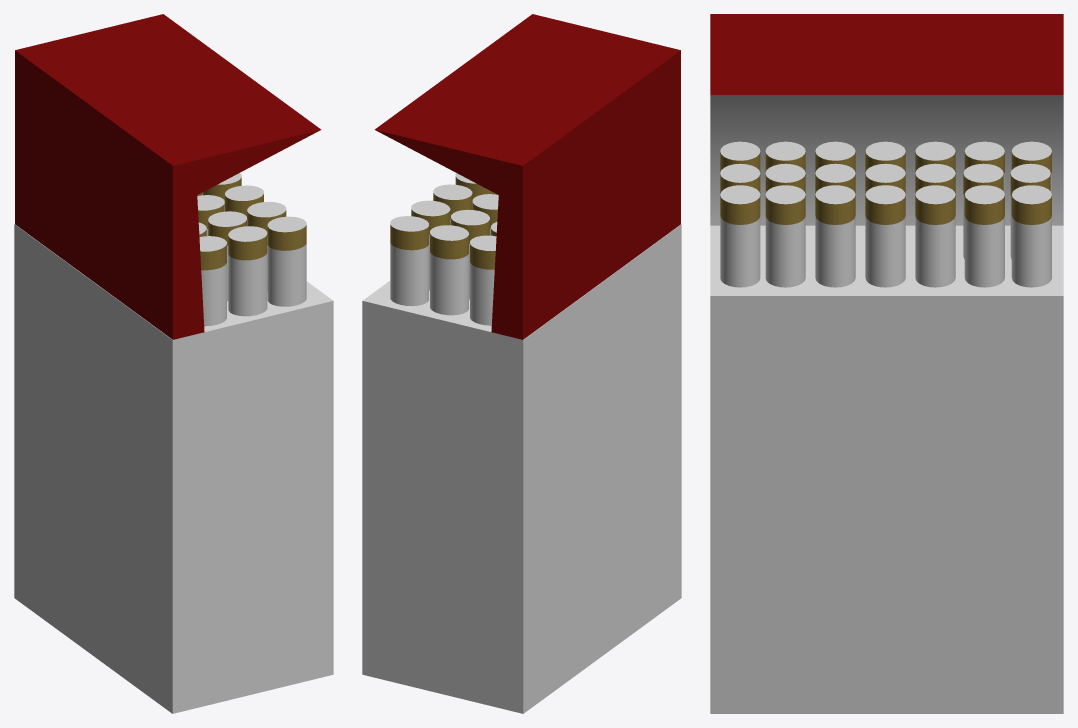
The model's file is cigarette.fbx.
3 renders of one model, left to right at view 1: azimuth 30°, elevation 25°; view 2: azimuth 150°, elevation 25°; view 3: azimuth 270°, elevation 25°, orthographic. The views are drawn at different scales.
Visible parts, largest first — view 1: pasted__pasted__pCube1; view 2: pasted__pasted__pCube1; view 3: pasted__pasted__pCube1.
Part boxes in pixels (x1,y1,x2,y2): pasted__pasted__pCube1: [14, 14, 333, 713]; pasted__pasted__pCube1: [362, 14, 681, 713]; pasted__pasted__pCube1: [710, 14, 1063, 713].
Bounding box in the file's own units: 0.2887 × 0.9393 × 0.4915.
